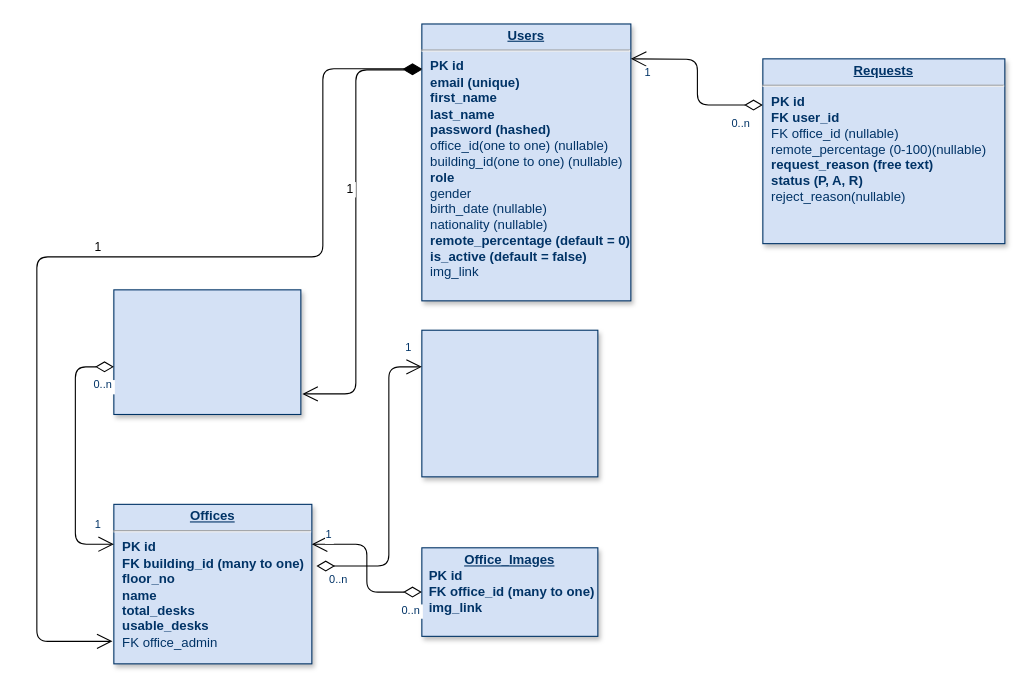
Image size: 1031x691. Some labels were removed from this diagram. The centre of each missing label's shape, as x and y in pixels:
Buildings PK id name floors_count building_address: pixel 510 405
Desks PK id number FK id_office (many to one) is_usable FK user_id (nullable): pixel 207 353
